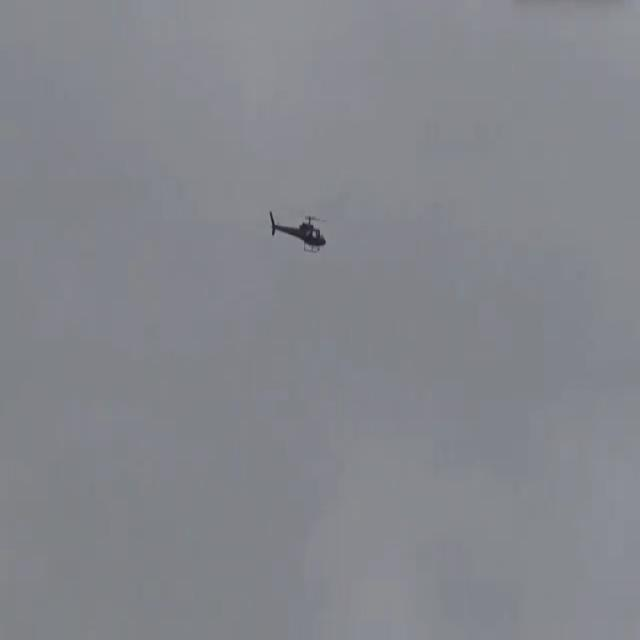Helicopter: (258, 197, 329, 262)
